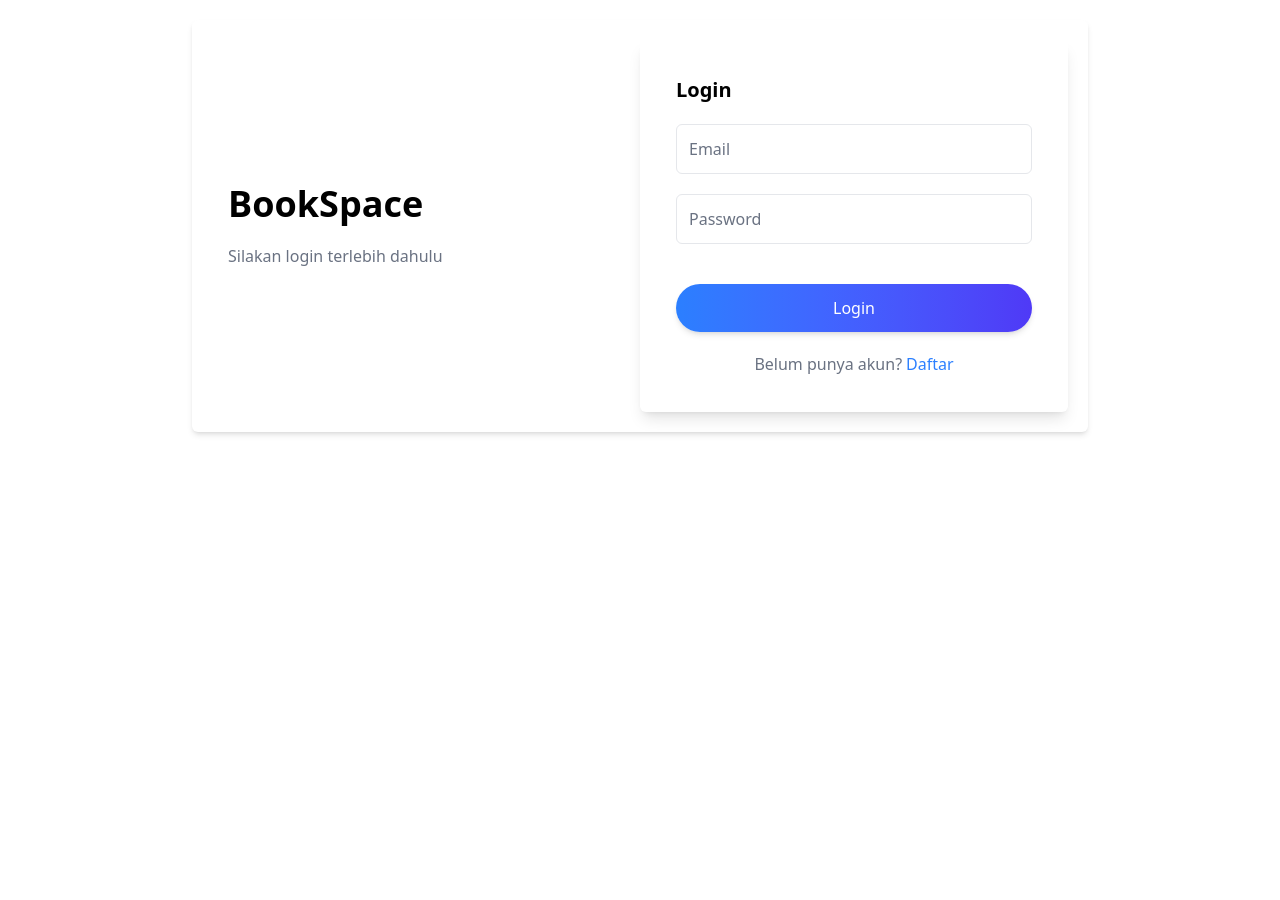
Scenario: Halaman Login › menampilkan modal jika email/password tidak valid
Type "pengguna salah dalam menginputkan" into the field with placeholder "Email". click: (854, 149)
box: [676,124,1032,174]
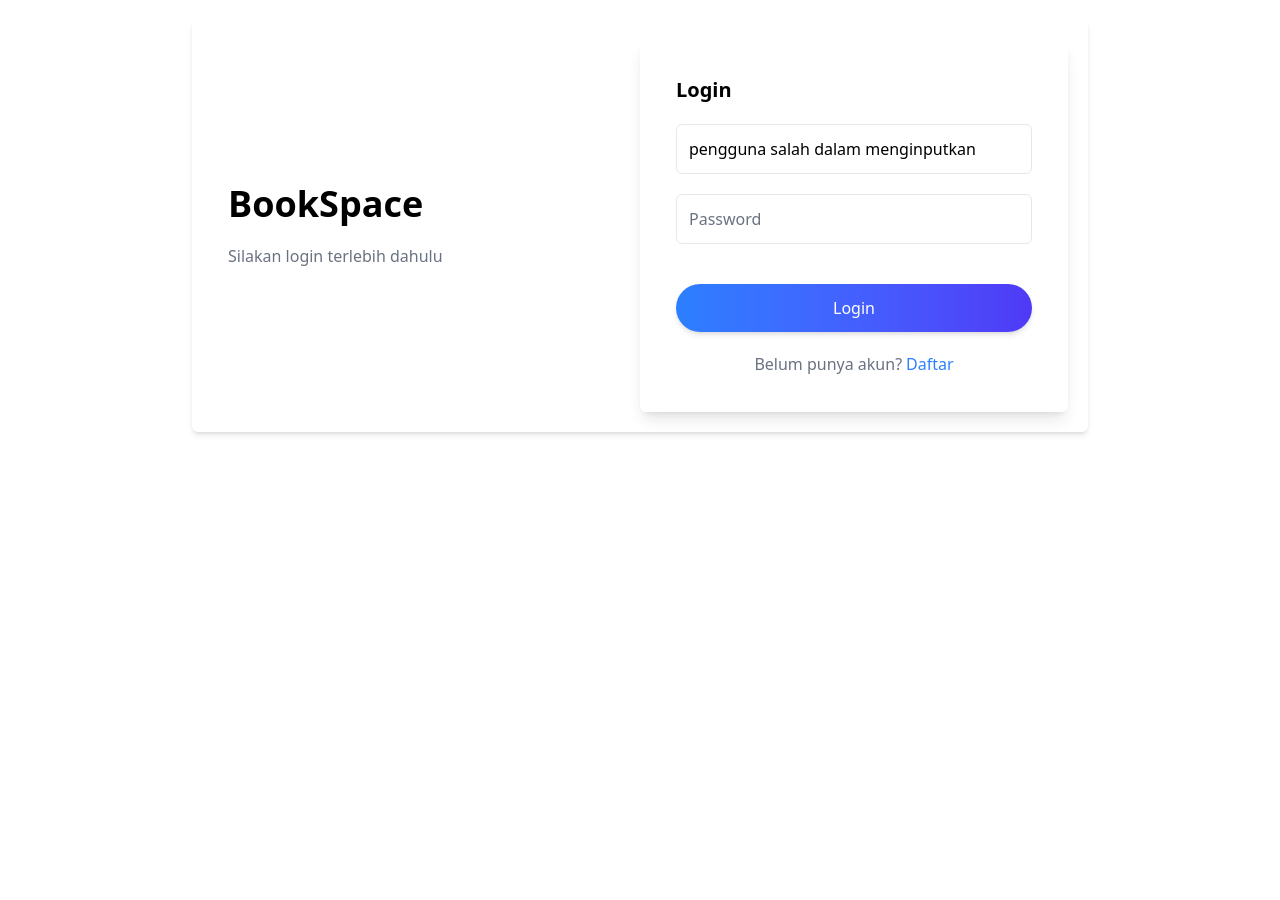
Type "abc" into the password field with placeholder "Password". click: (854, 219)
box: [676,194,1032,244]
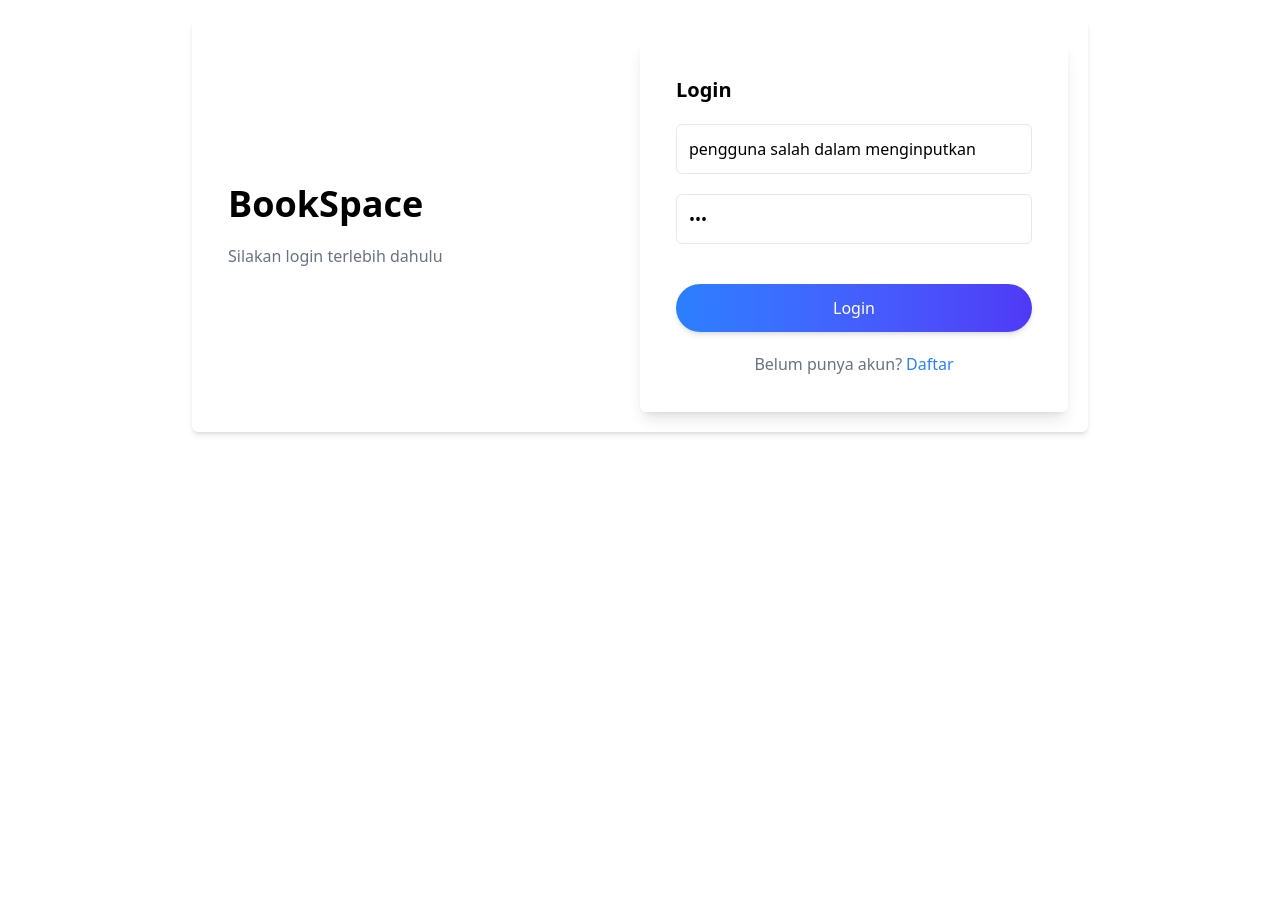
Submit the form with test id "login-test", box [676,124,1032,332]
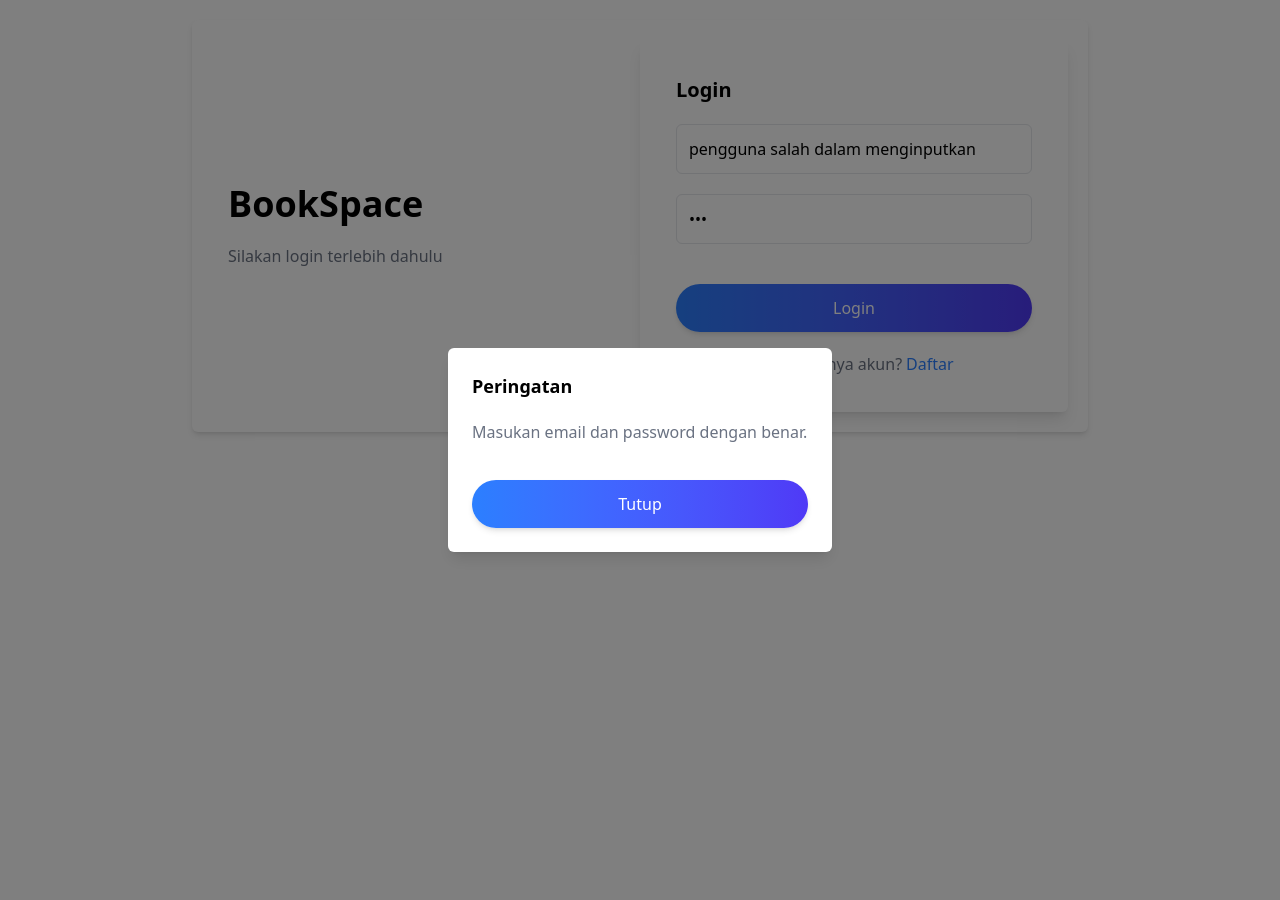
Expected: the text "Masukan email dan password dengan benar." is shown, [472,420,808,444]
